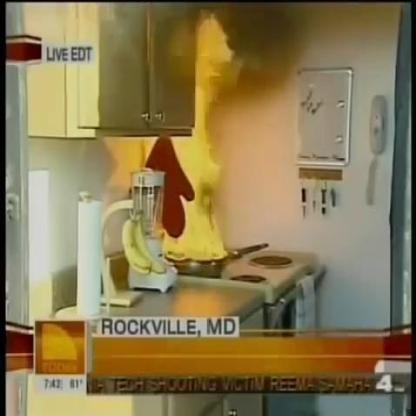fire: (160, 125, 236, 265)
